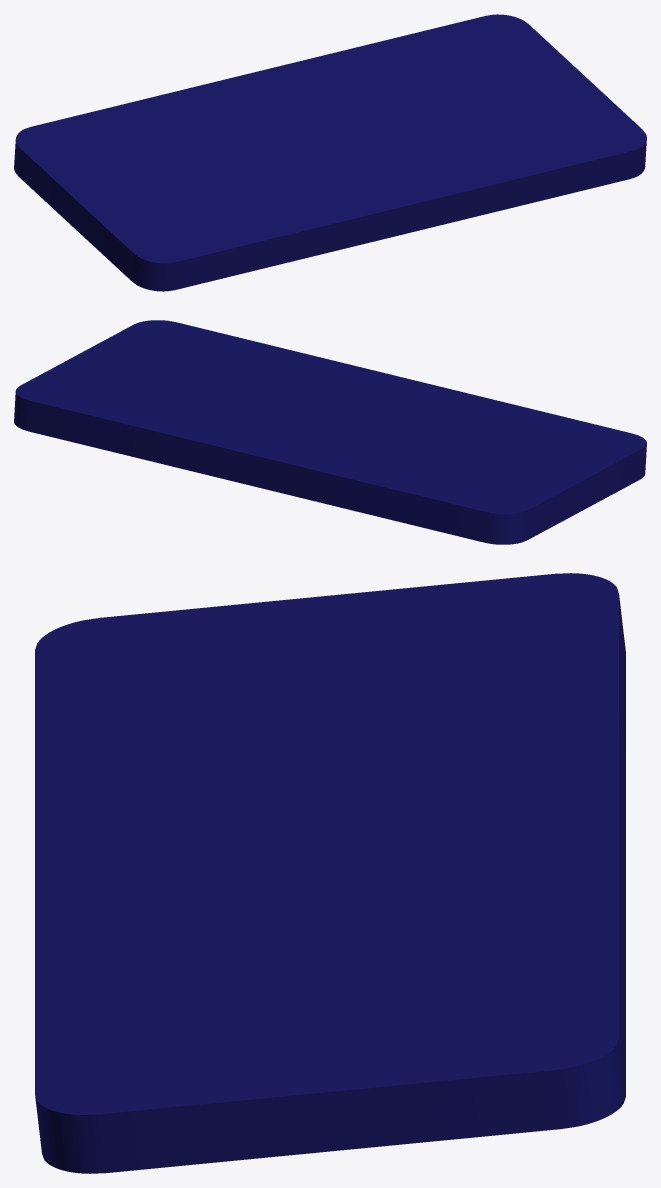
Rendered from original-6.obj.
The picture shows the model from 3 angles, top to bottom: view 1: azimuth 30°, elevation 25°; view 2: azimuth 150°, elevation 25°; view 3: azimuth 270°, elevation 25°; orthographic projection. The views are drawn at different scales.
Visible parts, largest first — view 1: Group6/mesh16/mesh16-geometry#mesh16-geometry; view 2: Group6/mesh16/mesh16-geometry#mesh16-geometry; view 3: Group6/mesh16/mesh16-geometry#mesh16-geometry.
Boxes of the visible parts, left/top/right/bottom form: Group6/mesh16/mesh16-geometry#mesh16-geometry: left=14, top=14, right=646, bottom=291; Group6/mesh16/mesh16-geometry#mesh16-geometry: left=14, top=320, right=646, bottom=544; Group6/mesh16/mesh16-geometry#mesh16-geometry: left=35, top=573, right=625, bottom=1173.
Bounding box in the file's own units: 0.187 × 0.0203 × 0.0941.
